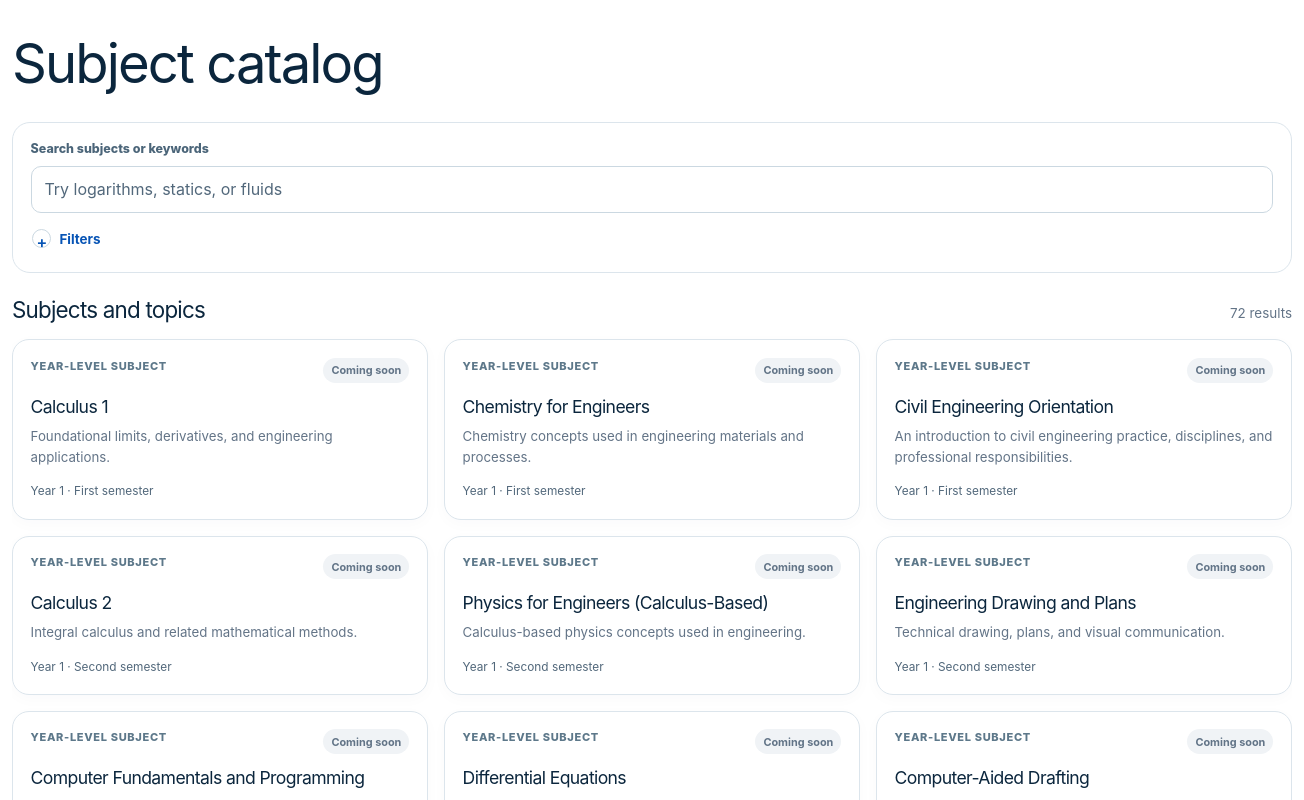
catalog pages › offers a recoverable no-results state
The image size is (1304, 800).
Type "no-such-subject" into the search field labelled "Search subjects or keywords" at (652, 189), box [31,166,1273,213]
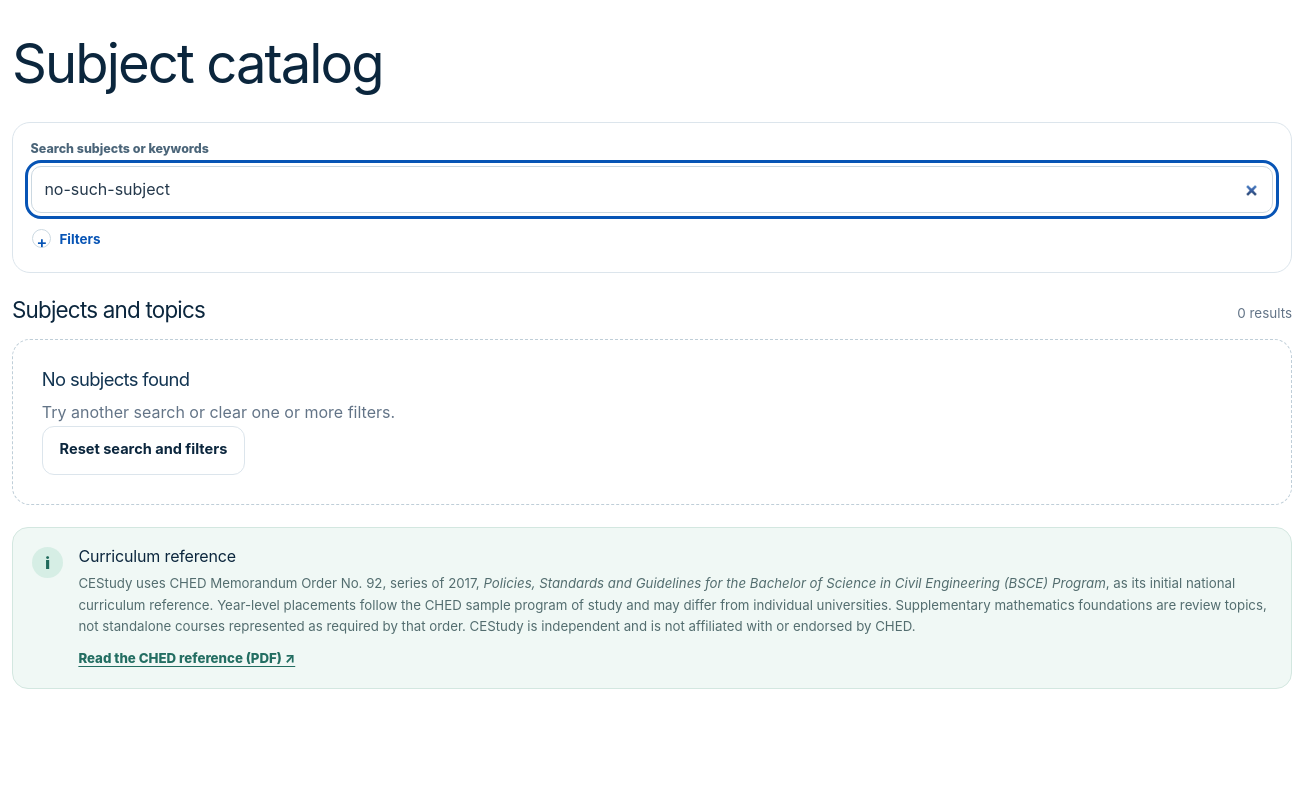
Result: the heading "No subjects found" is shown at [42,368,190,390]
Click the button "Reset search and filters" at (143, 450), box [42,426,245,475]
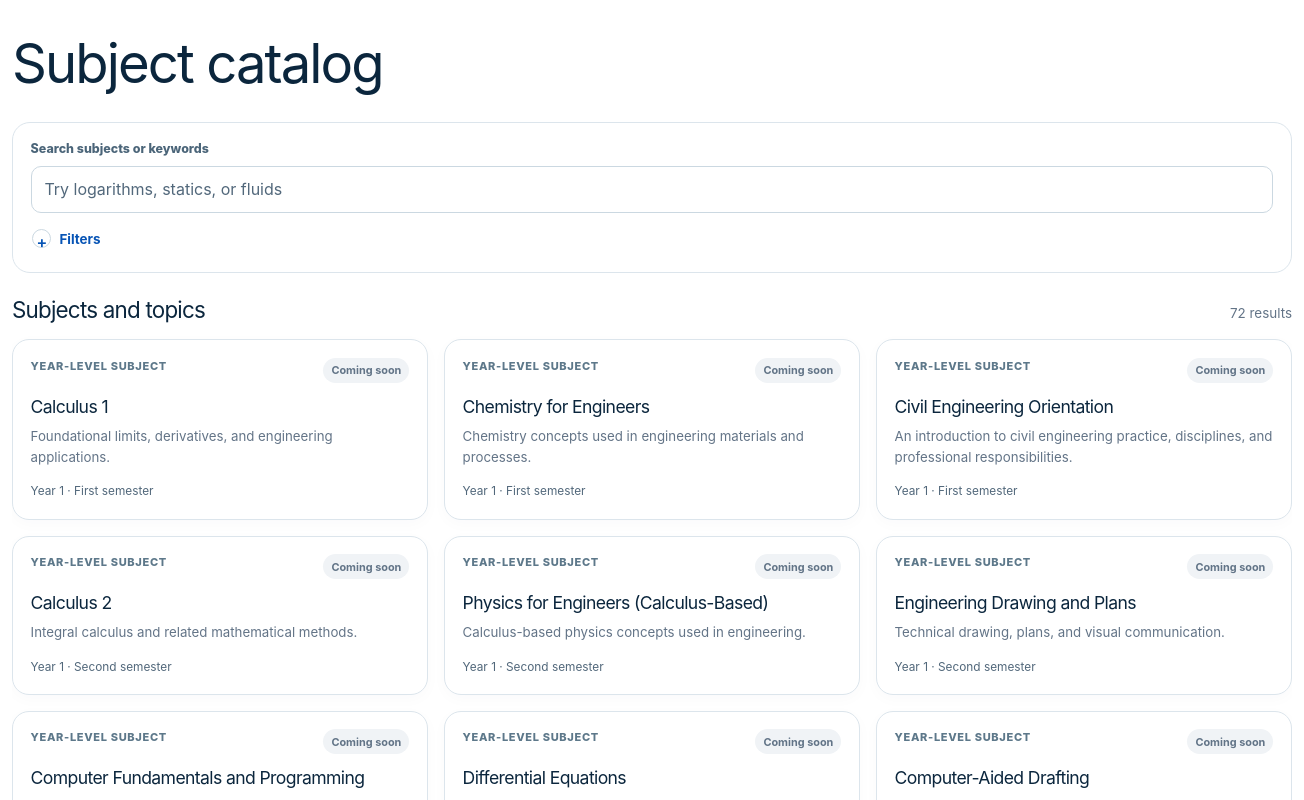
Result: the link "Calculus 1" is shown at [12,339,428,520]
